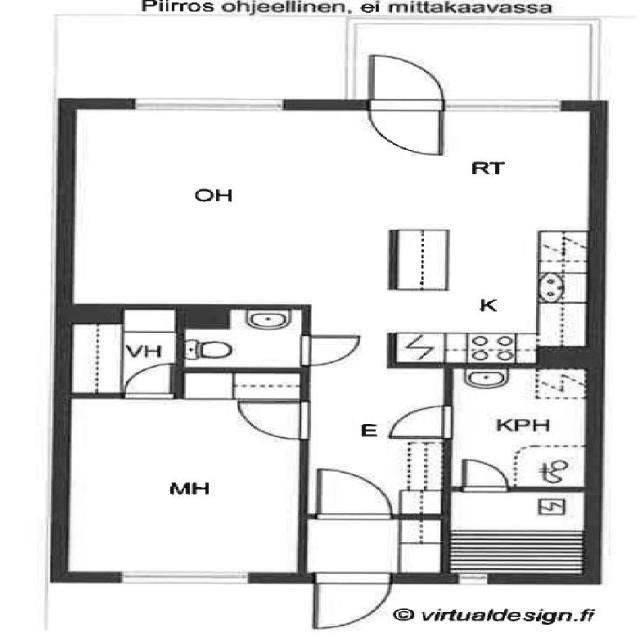door: (358, 50, 449, 157), (308, 570, 396, 631), (313, 465, 395, 518), (378, 400, 456, 441), (237, 400, 314, 441), (289, 328, 366, 368), (118, 360, 179, 400), (455, 454, 514, 492)
window: (123, 93, 294, 117), (107, 562, 262, 588), (436, 96, 573, 117), (449, 572, 497, 588)
zone: (63, 108, 396, 304), (401, 110, 596, 363), (61, 387, 307, 577), (449, 363, 594, 491), (443, 487, 594, 580), (63, 306, 174, 397), (179, 305, 306, 370)
